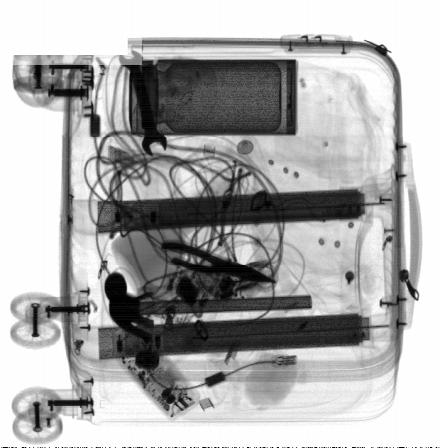Hammer: (103, 272, 313, 343)
Pliers: (162, 239, 282, 280)
Wrench: (119, 48, 167, 157)
